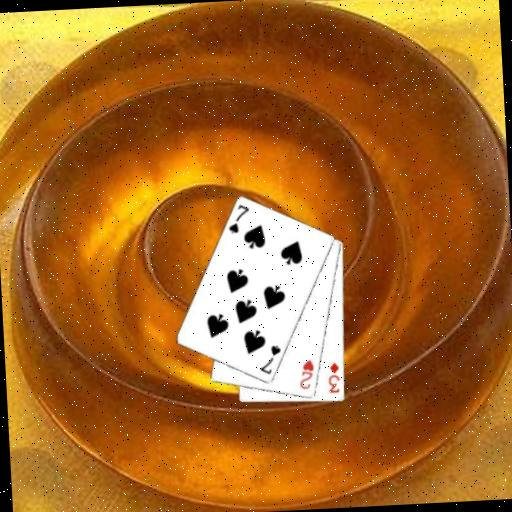2H: (295, 356, 316, 391)
3D: (325, 359, 343, 395)
7S: (256, 342, 284, 377), (225, 202, 252, 236)
